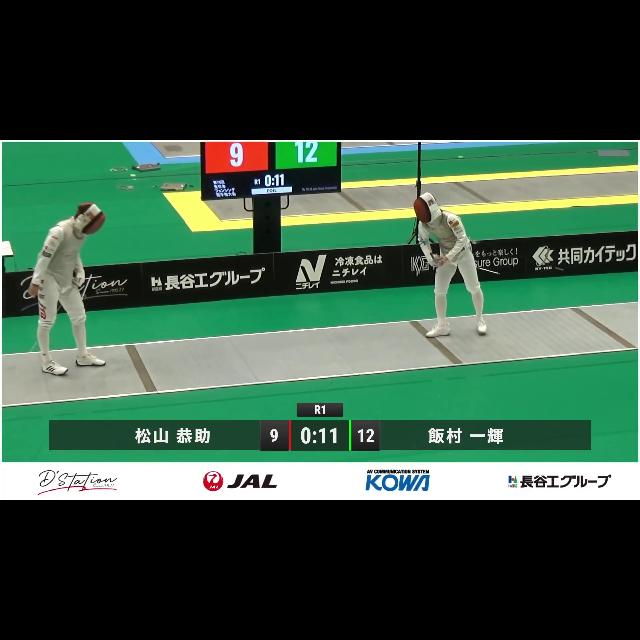blade: (26, 282, 86, 358), (428, 250, 504, 278)
